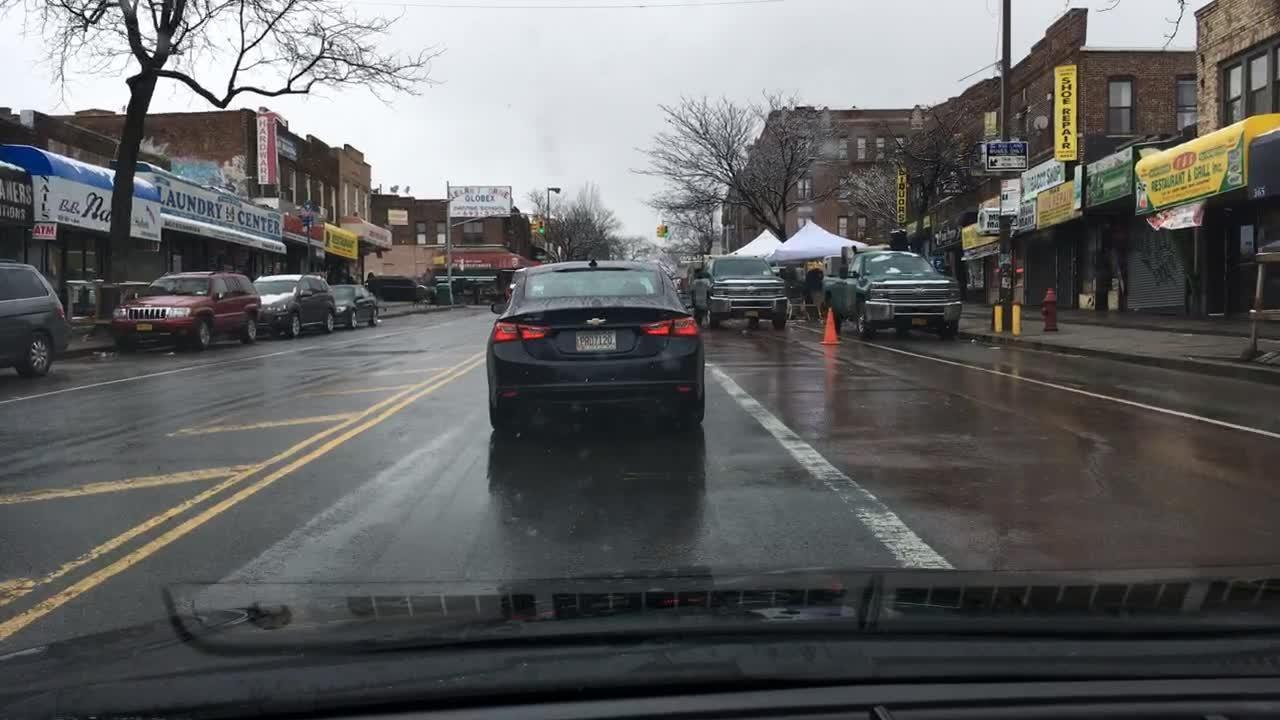chevrolet: (575, 309, 612, 335)
